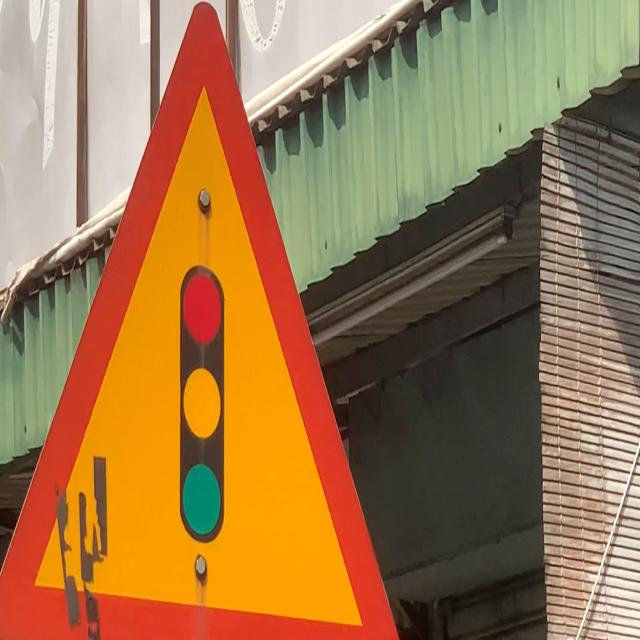W.209: (0, 0, 408, 640)
